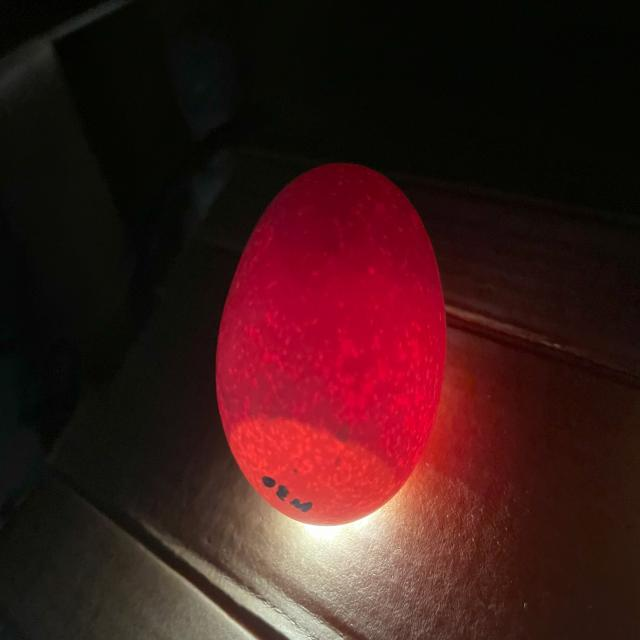fertile: (216, 163, 446, 525)
